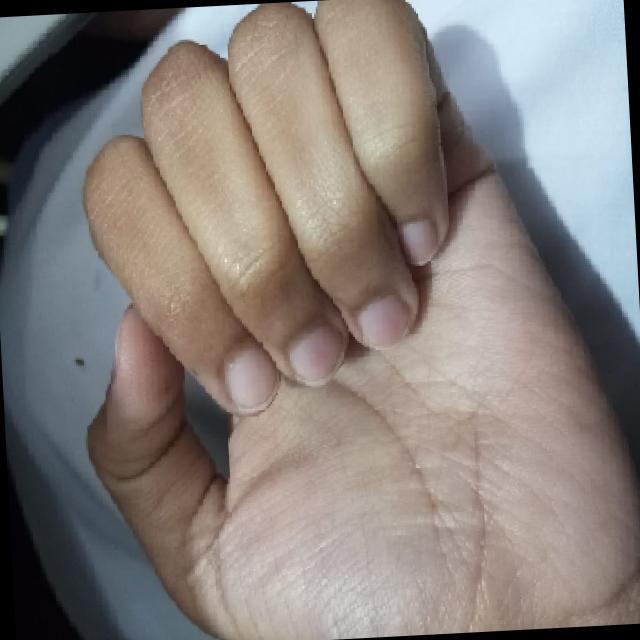Nail: (225, 341, 279, 414), (289, 322, 346, 384), (358, 294, 411, 347), (399, 218, 438, 265)
